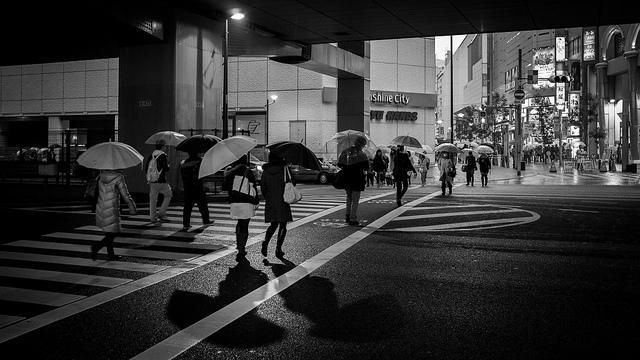car: (287, 160, 338, 186)
